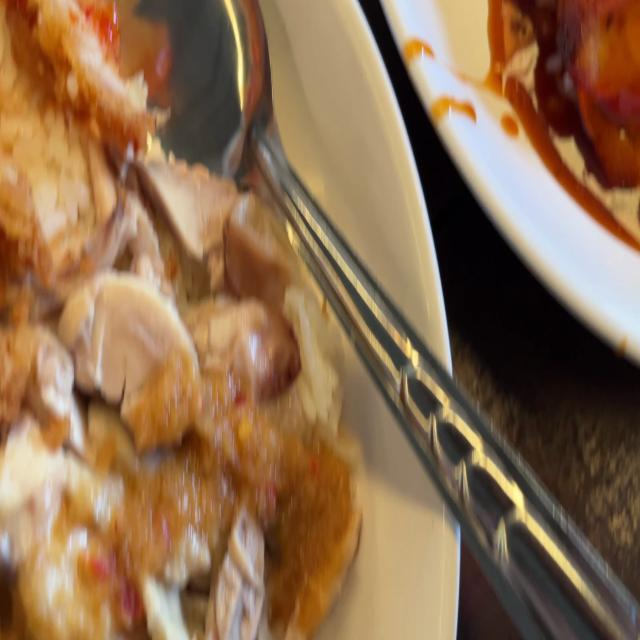01red_pork_and_crispy_pork: (522, 0, 640, 185)
boiled_chicken: (21, 156, 356, 628)
chicken_rice: (0, 0, 355, 640)
fried_chicken: (0, 0, 143, 400)
